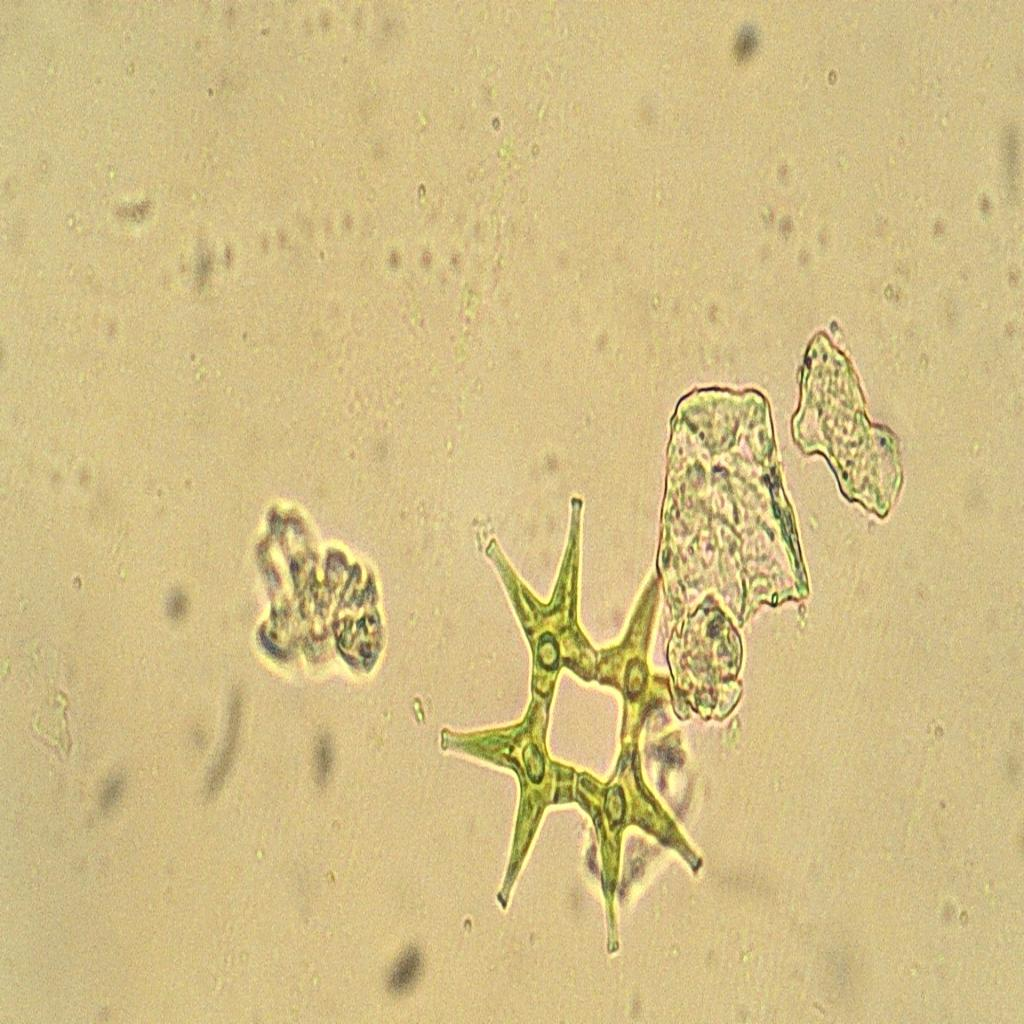Pediastrum_75TH: (429, 488, 724, 967)
